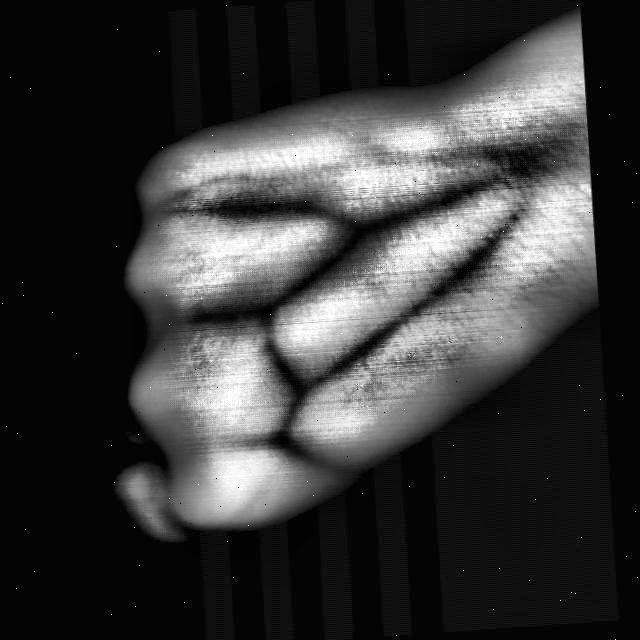Vein: (316, 201, 524, 390), (353, 152, 538, 249)
